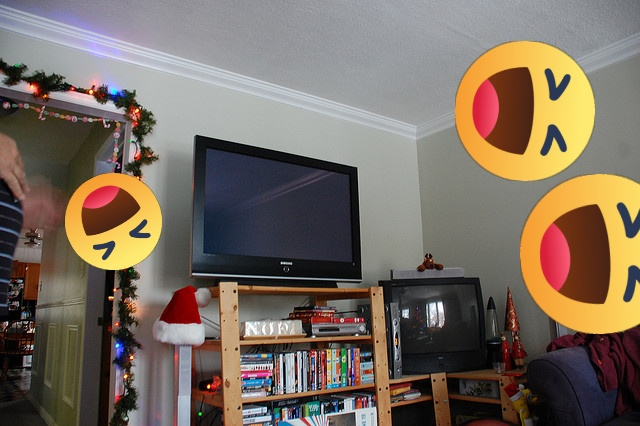haha: (455, 41, 595, 181), (520, 174, 640, 334), (65, 173, 162, 270)
